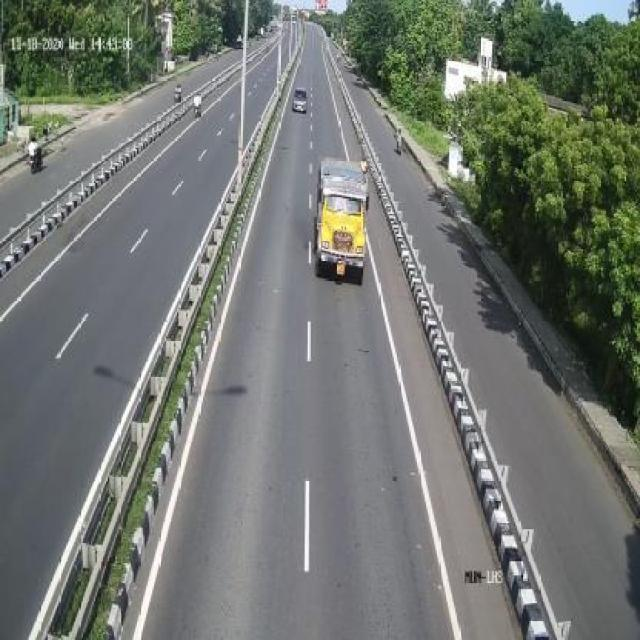car: (291, 84, 312, 116)
